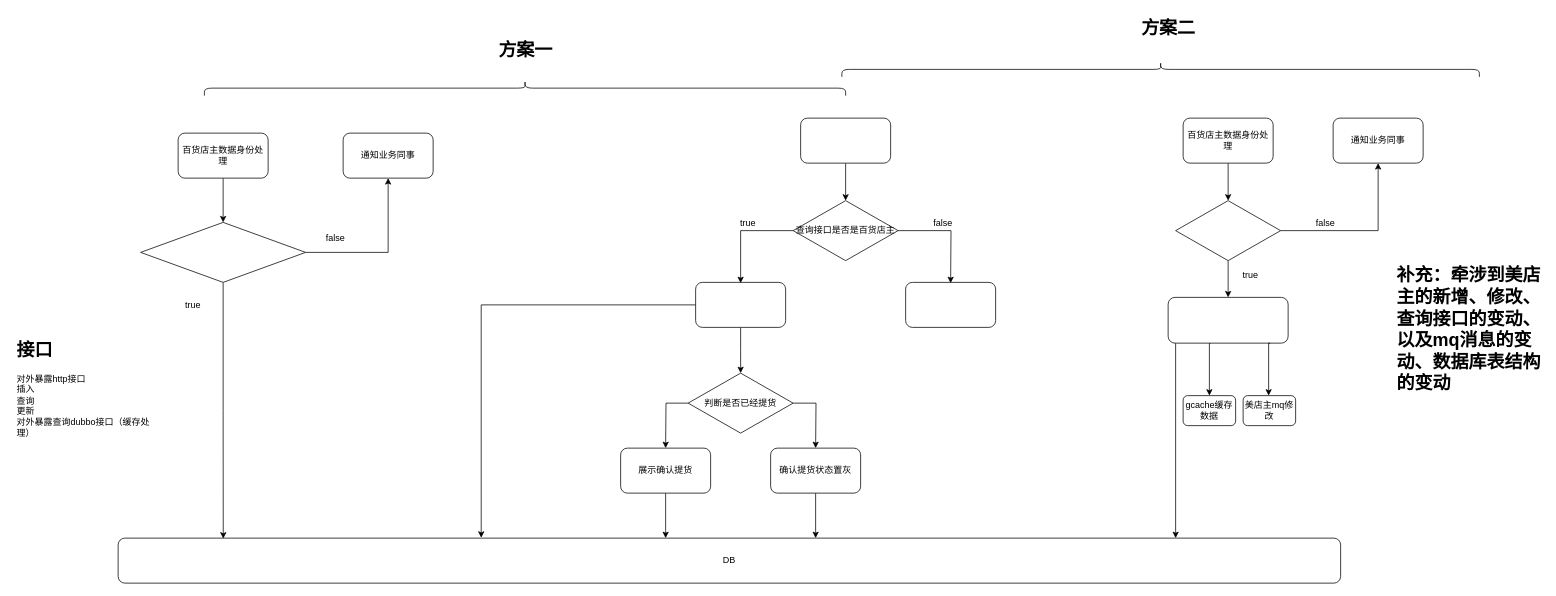
Some shapes in this 1556 by 596 pixel diagram are drawn without their labels. Here are the shapes that lost their labels. From the top down, the centre of each, then its label:
the point at 845,140: http接口
the point at 1228,230: 判断是否是美店主
the point at 223,252: 是否为美店主
the point at 740,304: 过滤当前用户下直属下级、以及自己的订单
the point at 950,304: 现有流程
the point at 1227,320: 处理百货店主身份
